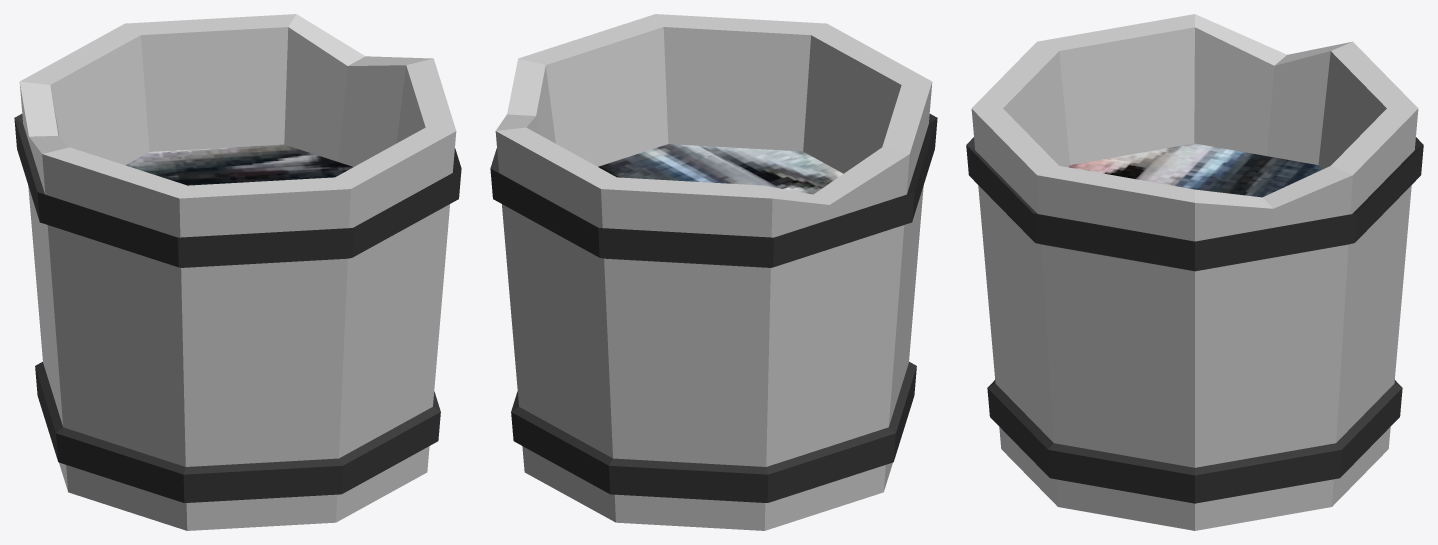
File: Hunter_Bucket_Full.fbx
3 renders of one model, left to right at view 1: azimuth 30°, elevation 25°; view 2: azimuth 150°, elevation 25°; view 3: azimuth 270°, elevation 25°, orthographic.
Visible parts, largest first — view 1: Hunter_Bucket_Full_OBJ; view 2: Hunter_Bucket_Full_OBJ; view 3: Hunter_Bucket_Full_OBJ.
Part boxes in pixels (x1,y1,x2,y2): Hunter_Bucket_Full_OBJ: (14,14,461,530); Hunter_Bucket_Full_OBJ: (490,14,937,530); Hunter_Bucket_Full_OBJ: (966,14,1423,530).
Size of the model in its own units: 205 by 168 by 205.
